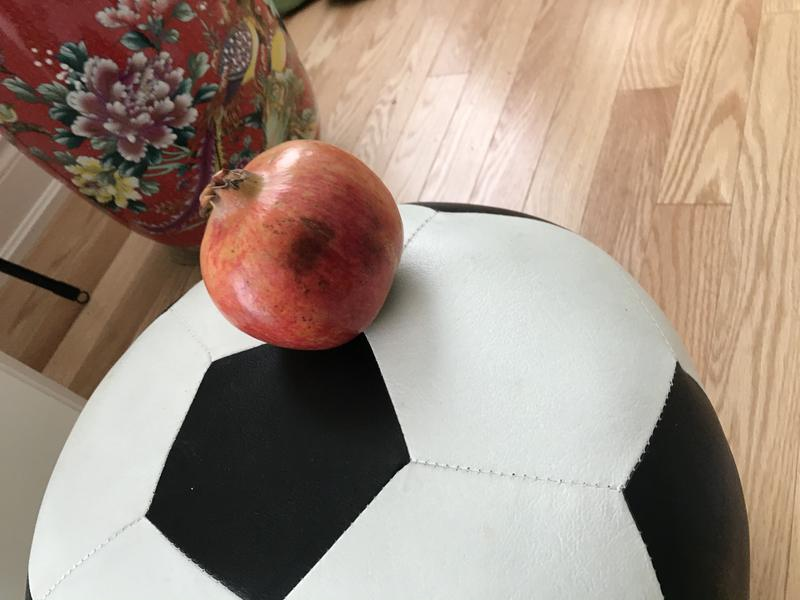pomegranate: (173, 133, 419, 356)
